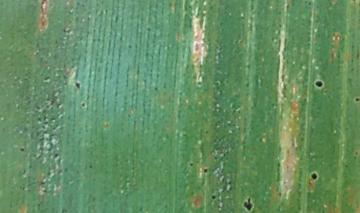tarspot: (243, 197, 252, 211), (315, 81, 323, 88), (310, 173, 316, 180), (75, 82, 79, 89), (19, 148, 24, 152), (54, 153, 58, 158), (211, 195, 215, 200), (189, 162, 193, 167), (355, 98, 360, 101), (203, 169, 208, 172), (81, 103, 84, 107), (154, 87, 157, 90)
